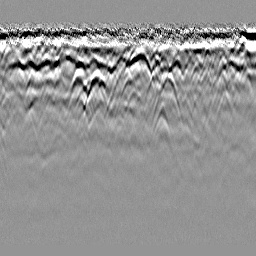cavity: (120, 72, 138, 96)
